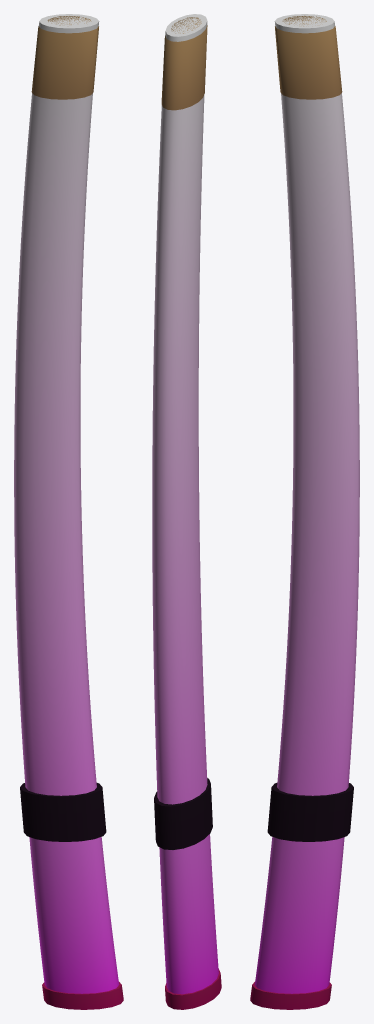
Rendered from katana_saya.glb.
3 views of the same model, side by side, from view 1: azimuth 90°, elevation 25°; view 2: azimuth 150°, elevation 25°; view 3: azimuth 270°, elevation 25° (orthographic).
Parts seen in each view (by area): view 1: Katana_Saya; view 2: Katana_Saya; view 3: Katana_Saya.
Part boxes in pixels (box(x1,y1,x2,y2)): Katana_Saya: box(14, 14, 123, 1009); Katana_Saya: box(152, 14, 221, 1009); Katana_Saya: box(250, 14, 359, 1009).
Bounding box in the file's own units: 0.0322 × 0.758 × 0.077.
